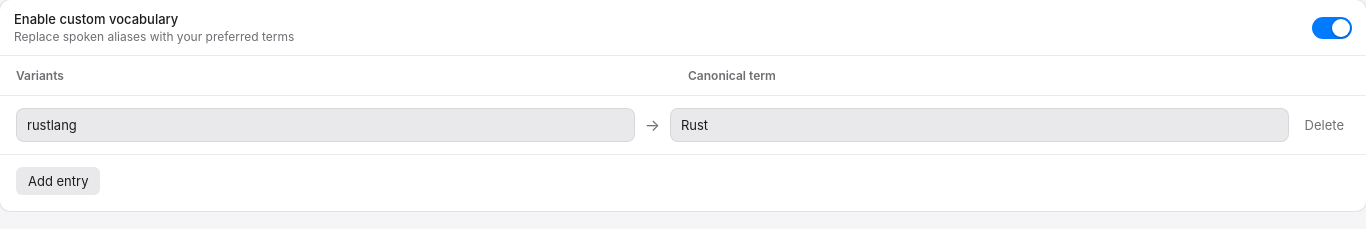
Scenario: DictionarySection › ignores a stale StrictMode load after a successful save
The image size is (1366, 229).
Replace the text in the 2nd field with placeholder "Preferred spelling" with "Rustacean": (979, 125) [670,108,1289,142]
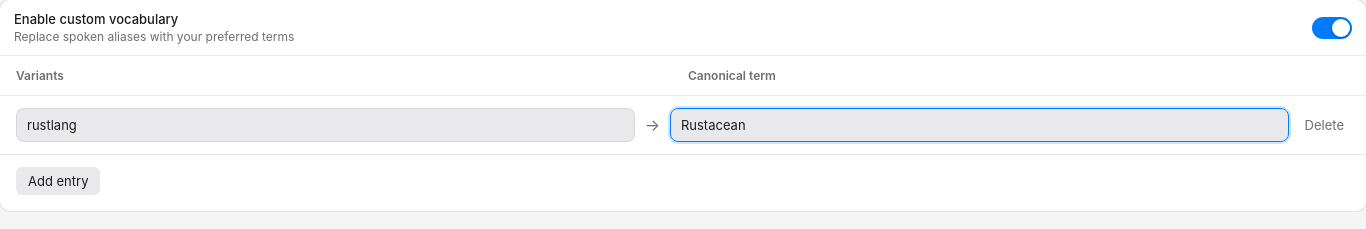
Press Tab
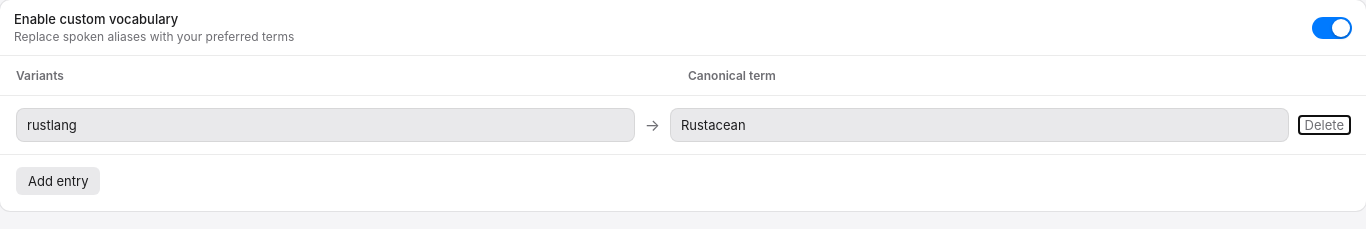
Check: the element named "Rustacean" is shown, box [0,96,1365,154]
